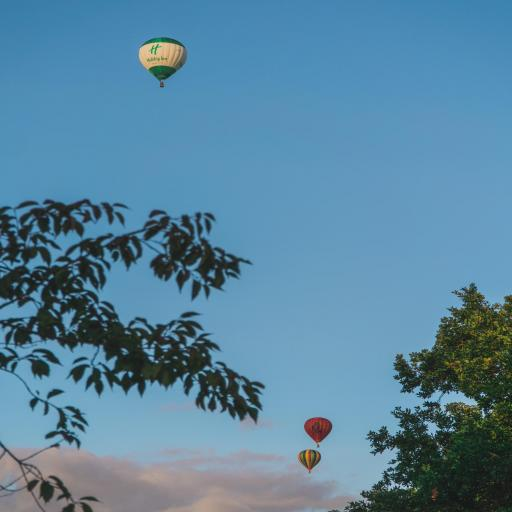hot air ballon: (139, 38, 186, 87), (305, 418, 333, 447), (298, 450, 321, 473)
